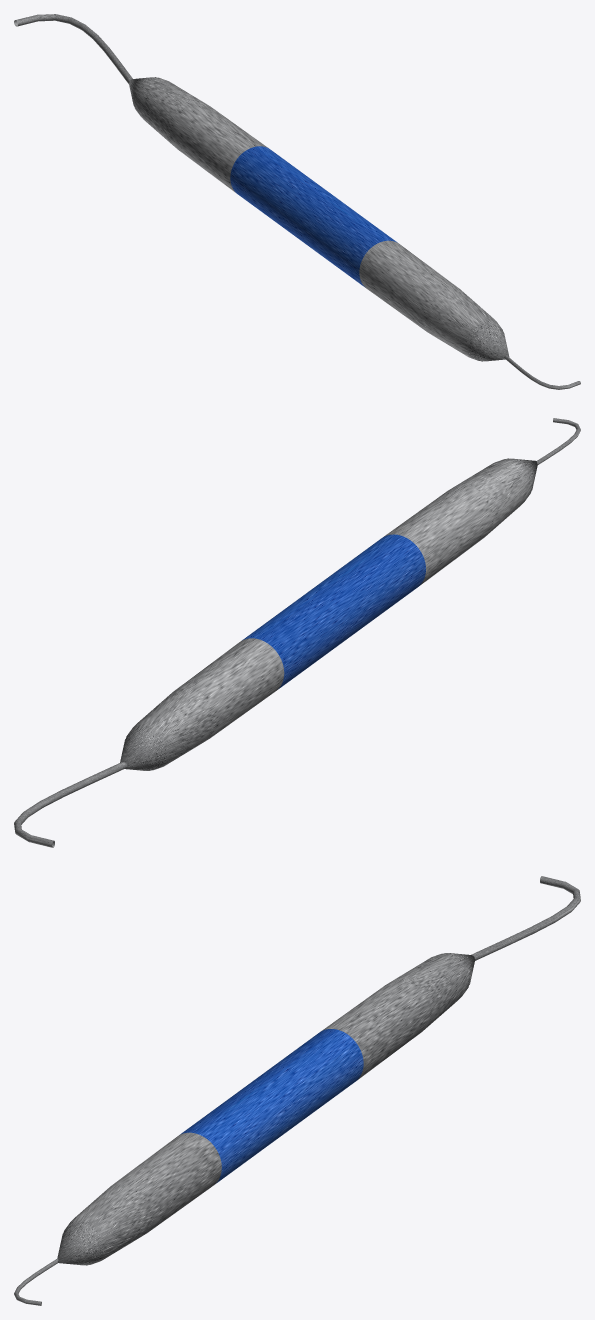
The model's file is sonda.fbx.
The picture shows the model from 3 angles, top to bottom: view 1: azimuth 30°, elevation 25°; view 2: azimuth 150°, elevation 25°; view 3: azimuth 330°, elevation 25°; orthographic projection. The views are drawn at different scales.
Parts seen in each view (by area): view 1: Cilindro, Curva Bezier; view 2: Cilindro, Curva Bezier; view 3: Cilindro, Curva Bezier.
Part boxes in pixels (x1,y1,x2,y2): Cilindro: (129, 77, 509, 361); Curva Bezier: (14, 14, 132, 83); Cilindro: (120, 458, 537, 770); Curva Bezier: (14, 762, 128, 847); Cilindro: (57, 953, 475, 1265); Curva Bezier: (471, 876, 580, 960).
Size of the model in its own units: 98.89 by 85.79 by 1584.
2 materials, 2 textured.
